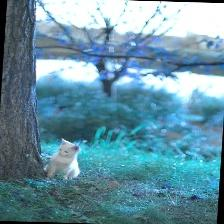kedo: (45, 138, 80, 179)
